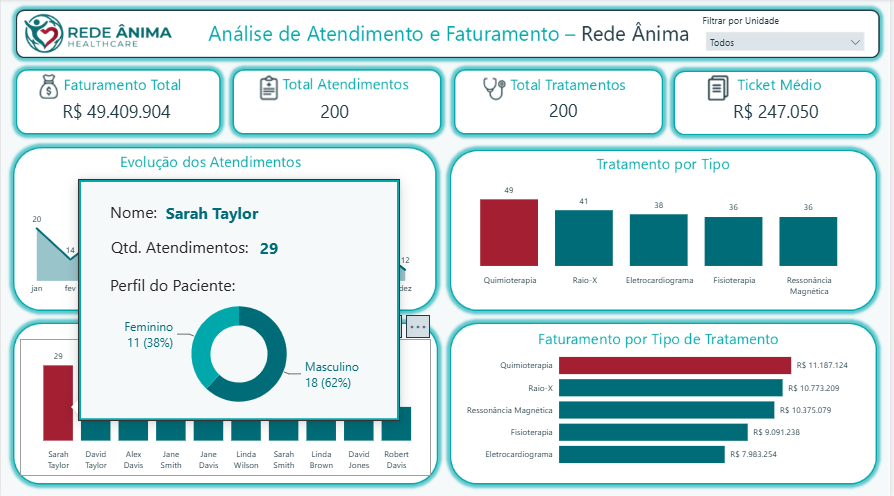

The page's visual inventory and layout, read from the dashboard file:
{"tool":"powerbi","page":{"name":"Análise de Atendimento e Faturamento","canvas":[1280,720],"ordinal":0},"visuals":[{"type":"card","fields":{"Values":["_Medidas.Faturamento Total"]},"box":[28,133.3,277.3,58.7],"z":0},{"type":"areaChart","fields":{"Category":["dCalendario.Mês Nome Curto"],"Y":["_Medidas.Qtd. Atendimentos"]},"box":[28.1,242.1,578.9,193],"z":1000},{"type":"clusteredColumnChart","fields":{"Category":["fTratamento.Tipo"],"Y":["_Medidas.Qtd. Tratamentos"]},"box":[624.2,250,630.3,184.8],"z":2000},{"type":"clusteredBarChart","fields":{"Y":["_Medidas.Faturamento Total"],"Category":["fTratamento.Tipo"]},"box":[656,489.3,568,197.3],"z":3000},{"type":"columnChart","fields":{"Category":["dMedicos.Nome Completo"],"Y":["_Medidas.Qtd. Atendimentos"]},"box":[28,489.3,590.7,197.3],"z":4000},{"type":"card","fields":{"Values":["_Medidas.Qtd. Atendimentos"]},"box":[341.3,132.5,277.9,59],"z":5000},{"type":"card","fields":{"Values":["_Medidas.Qtd. Tratamentos"]},"box":[669.3,132,280,58.7],"z":6000},{"type":"card","fields":{"Values":["_Medidas.Ticket Médio por Tratamento"]},"box":[976,133.3,278.7,58.7],"z":7000},{"type":"slicer","title":"Filtrar por Unidade","fields":{"Values":["dMedicos.Unidade"]},"box":[1005.6,37,248.1,37],"z":8000},{"type":"textbox","box":[1005.3,17.5,136.8,38.6],"z":9000}]}

Visuals, with their boxes in screenshot pixels (x1, y1, x2, y2), scaled from the page's 1280x720 canvas onto the 894x496 screenshot:
card - _Medidas.Faturamento Total: [20,92,213,132]
areaChart - dCalendario.Mês Nome Curto x _Medidas.Qtd. Atendimentos: [20,167,424,300]
clusteredColumnChart - fTratamento.Tipo x _Medidas.Qtd. Tratamentos: [436,172,876,300]
clusteredBarChart - _Medidas.Faturamento Total x fTratamento.Tipo: [458,337,855,473]
columnChart - dMedicos.Nome Completo x _Medidas.Qtd. Atendimentos: [20,337,432,473]
card - _Medidas.Qtd. Atendimentos: [238,91,432,132]
card - _Medidas.Qtd. Tratamentos: [467,91,663,131]
card - _Medidas.Ticket Médio por Tratamento: [682,92,876,132]
"Filtrar por Unidade" slicer: [702,25,876,51]
textbox: [702,12,798,39]
